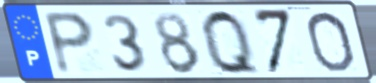3: (102, 13, 150, 74)
7: (252, 7, 297, 77)
8: (152, 10, 203, 75)
O: (303, 10, 357, 74)
P: (41, 9, 97, 77)
Q: (199, 7, 264, 78)
